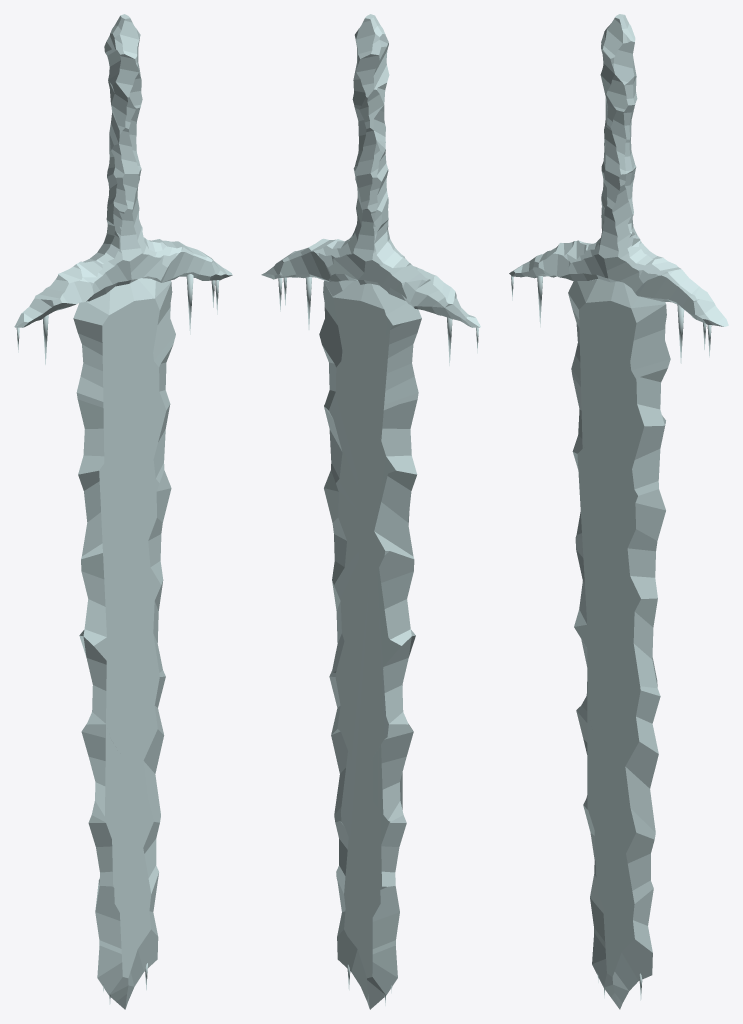
Rendered from Sword.fbx.
3 views of the same model, side by side, from view 1: azimuth 30°, elevation 25°; view 2: azimuth 150°, elevation 25°; view 3: azimuth 330°, elevation 25° (orthographic).
Parts seen in each view (by area): view 1: Ice_Cover; view 2: Ice_Cover; view 3: Ice_Cover.
Boxes of the visible parts, x1,y1,x2,y2 form: Ice_Cover: [14, 14, 232, 1009]; Ice_Cover: [261, 14, 480, 1009]; Ice_Cover: [509, 14, 728, 1009].
Size of the model in its own units: 0.8413 by 0.142 by 3.66.
